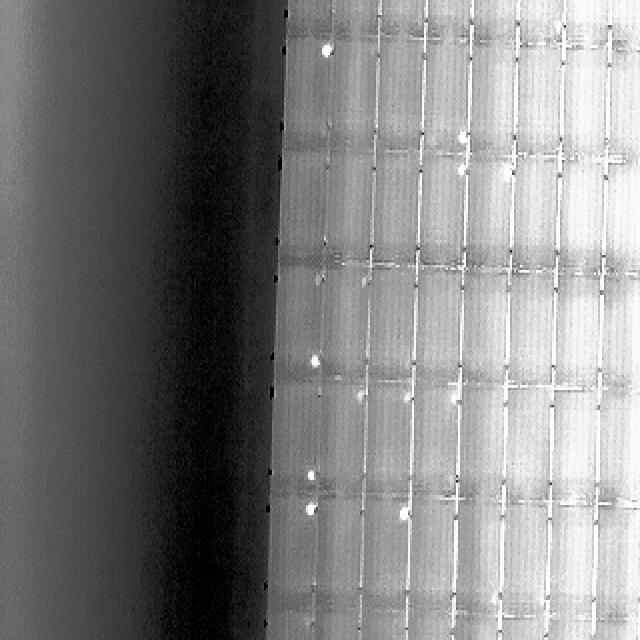Hotspots: (448, 131, 466, 152), (444, 388, 460, 411), (349, 387, 366, 407), (497, 160, 513, 179), (397, 501, 411, 522), (319, 43, 335, 61), (304, 355, 319, 371), (300, 469, 315, 485), (300, 499, 314, 515)
PV-modules: (411, 270, 462, 390), (328, 36, 379, 154), (368, 268, 418, 388), (318, 268, 369, 385), (552, 274, 602, 392), (268, 382, 319, 497), (460, 272, 510, 389), (454, 500, 504, 617), (358, 495, 408, 611), (406, 497, 456, 613), (314, 497, 364, 613), (458, 384, 508, 500), (463, 157, 513, 272), (285, 38, 335, 153), (506, 385, 555, 502), (512, 158, 562, 272), (555, 160, 605, 274), (317, 382, 367, 496), (266, 498, 316, 612), (549, 388, 598, 504), (509, 273, 558, 389), (272, 264, 320, 382), (361, 382, 411, 495), (515, 47, 564, 162), (546, 505, 595, 620), (420, 40, 469, 155), (502, 504, 551, 618), (324, 154, 374, 265), (409, 385, 458, 498), (373, 154, 422, 267), (468, 41, 516, 156), (559, 46, 607, 159), (416, 158, 464, 270), (378, 45, 426, 156), (278, 150, 324, 264), (594, 505, 640, 617), (596, 388, 640, 502), (598, 275, 640, 393), (602, 160, 640, 275), (606, 48, 640, 160), (562, 0, 610, 48), (518, 0, 568, 45), (470, 0, 520, 45), (422, 0, 472, 42), (330, 0, 382, 40), (288, 0, 336, 40), (380, 0, 428, 40), (608, 0, 640, 52), (403, 612, 453, 640), (309, 613, 362, 639), (362, 612, 408, 640), (451, 616, 501, 639), (500, 618, 549, 640), (267, 615, 310, 640), (546, 620, 594, 640), (588, 622, 639, 640), (636, 622, 640, 638)
